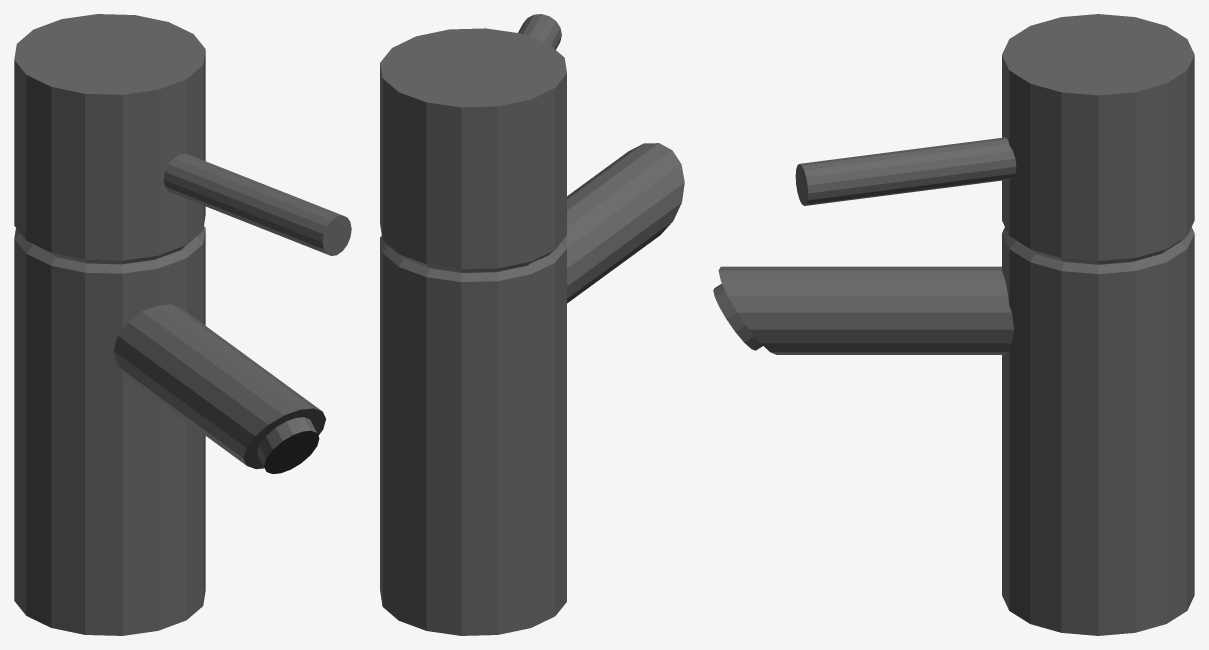
The model's file is Prop_Faucet_05.fbx.
The picture shows the model from 3 angles, left to right: view 1: azimuth 30°, elevation 25°; view 2: azimuth 150°, elevation 25°; view 3: azimuth 270°, elevation 25°; orthographic projection. The views are drawn at different scales.
Parts seen in each view (by area): view 1: Prop_Faucet_05; view 2: Prop_Faucet_05; view 3: Prop_Faucet_05.
Part boxes in pixels (x1,y1,x2,y2): Prop_Faucet_05: (14,14,351,635); Prop_Faucet_05: (380,14,684,635); Prop_Faucet_05: (713,14,1194,635).
Bounding box in the file's own units: 6.89 × 19.79 × 15.98.
